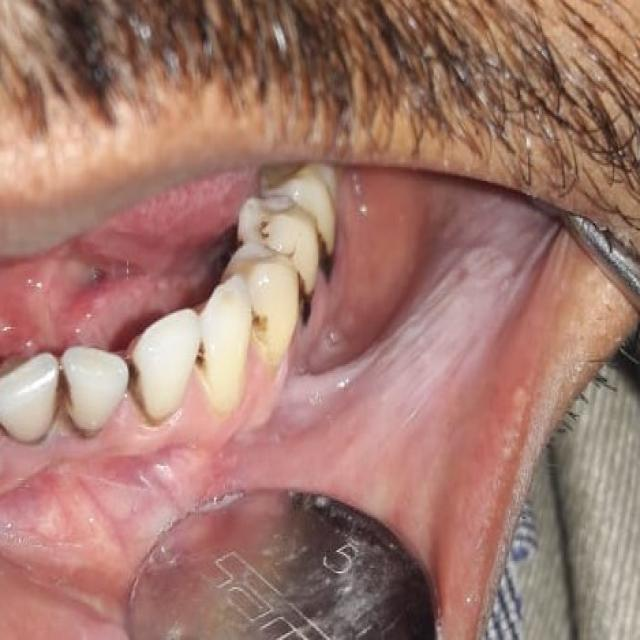Cancer: (8, 228, 124, 350), (452, 201, 520, 348)
